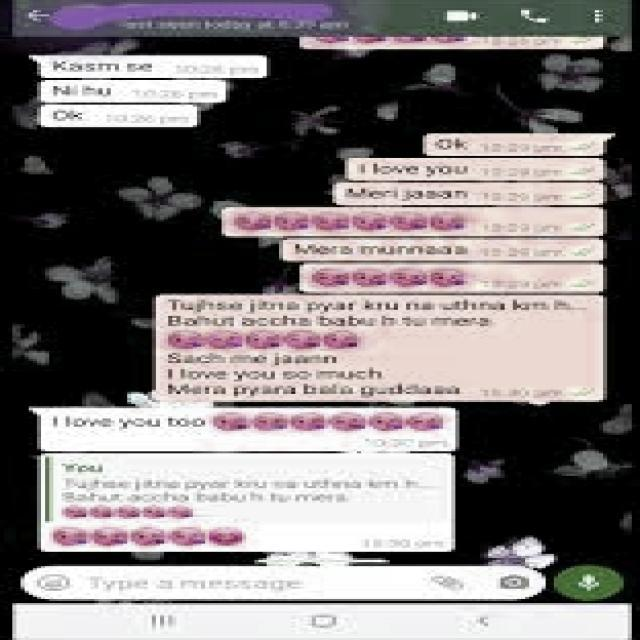scam: (46, 458, 450, 548), (49, 412, 443, 444), (38, 55, 182, 124)
